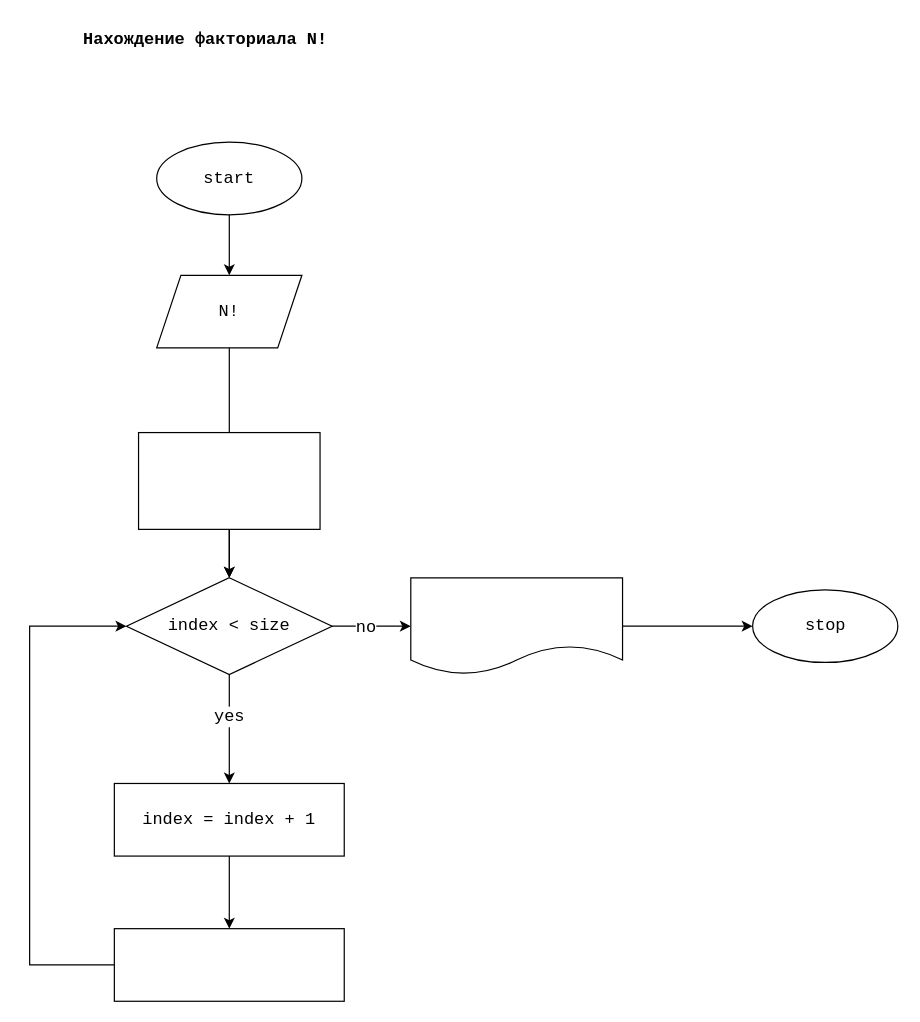
Image size: 920x1022. Some labels were removed from this diagram. Here are the shapes that lost their labels. From the top down, the box of each, then its label:
(137, 431, 320, 529): size = N!; index = 1; factorial = 1;
(410, 577, 623, 675): print = factorial
(113, 927, 344, 1001): factorial = factorial*index
